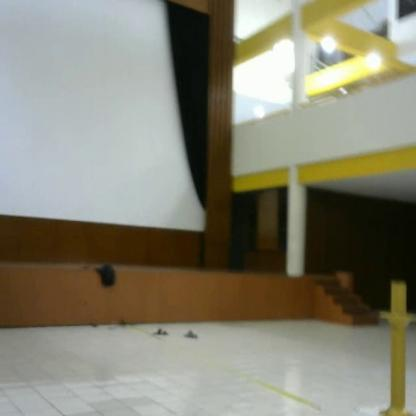pole: (373, 280, 416, 416)
